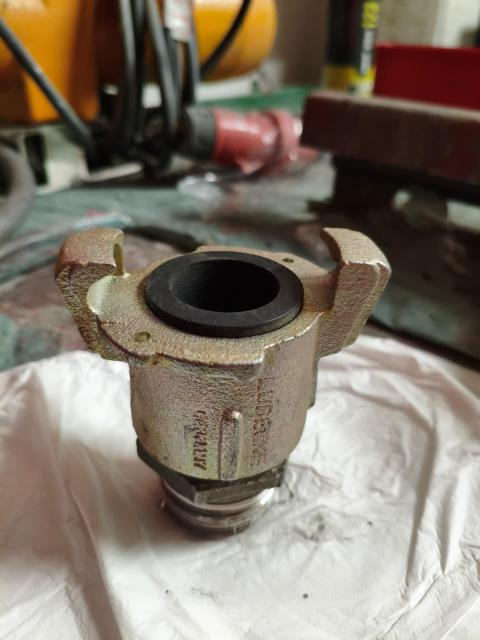Metal: (50, 227, 395, 528)
